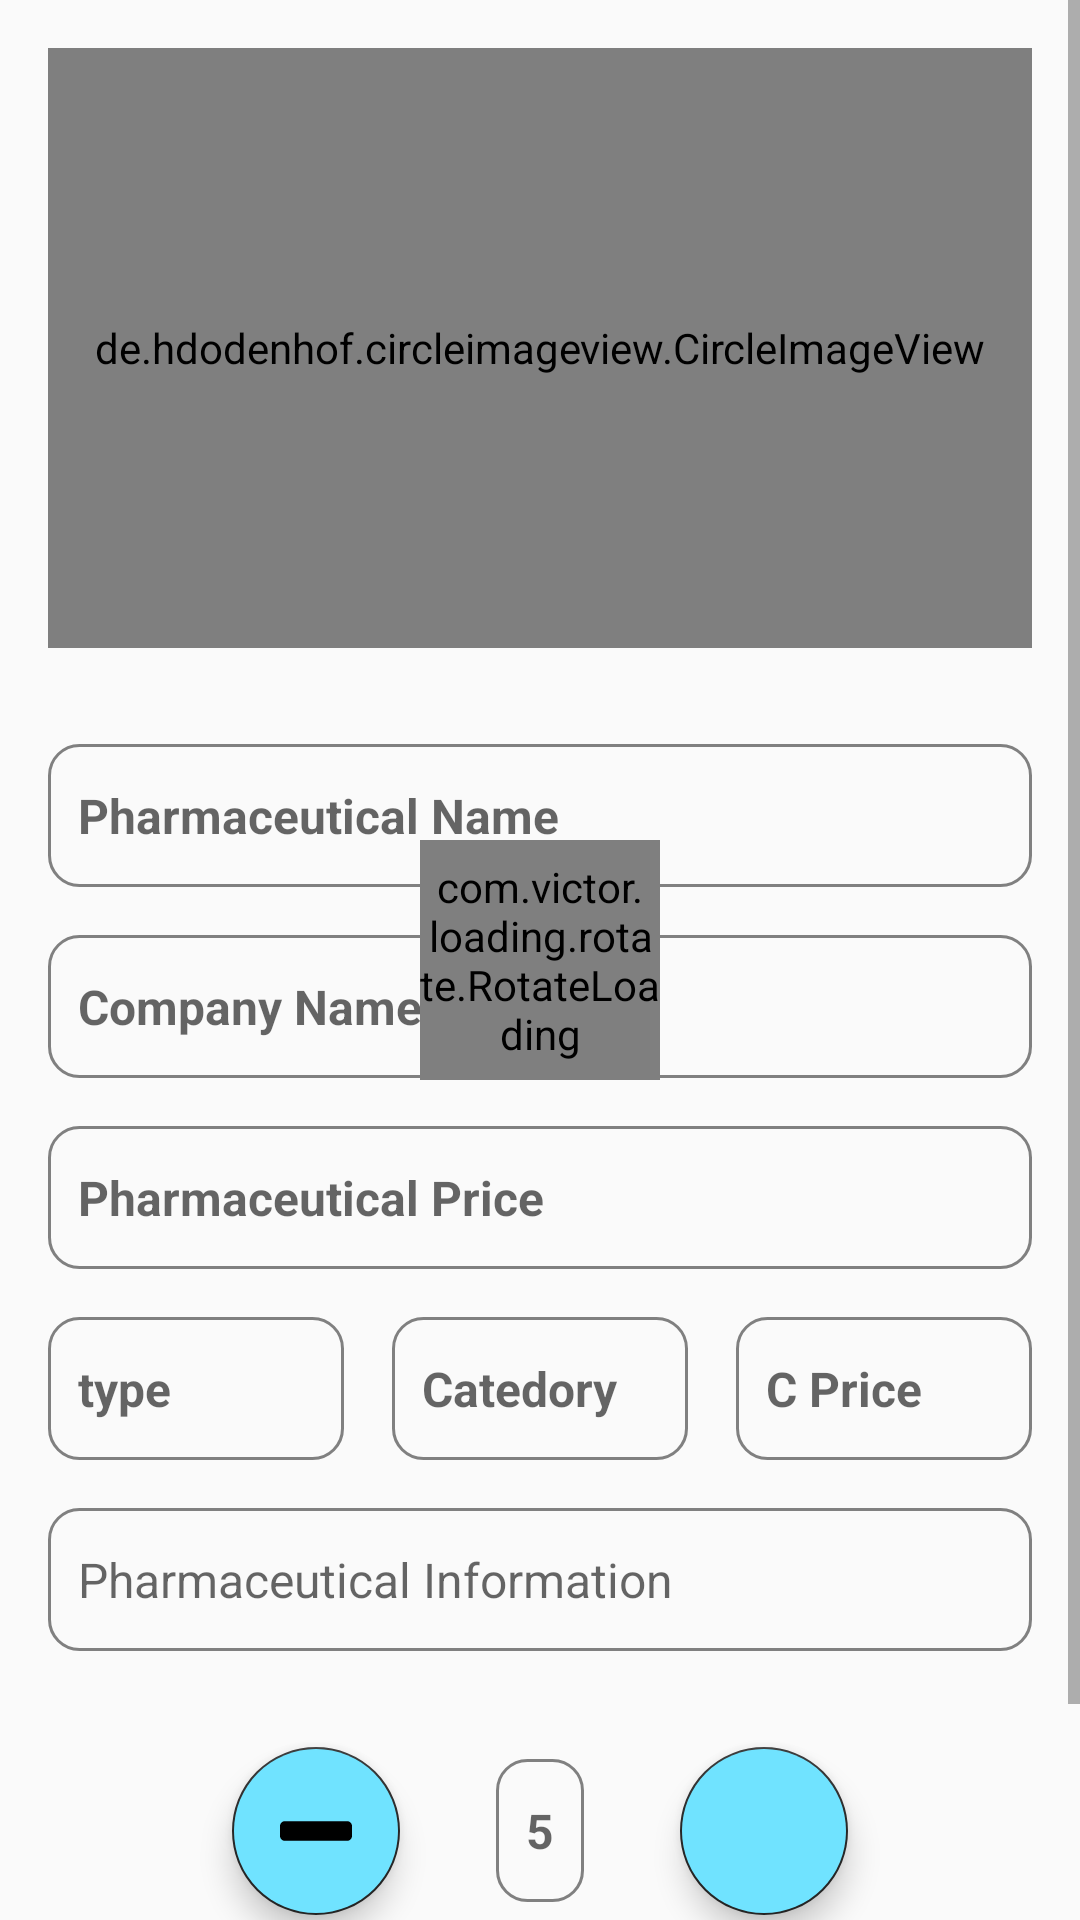

Screen size 1080px×1920px. Icon name, then its box in pixels as (x1, y1, x2, y2):
minussymbol: (232, 1747, 400, 1915)
